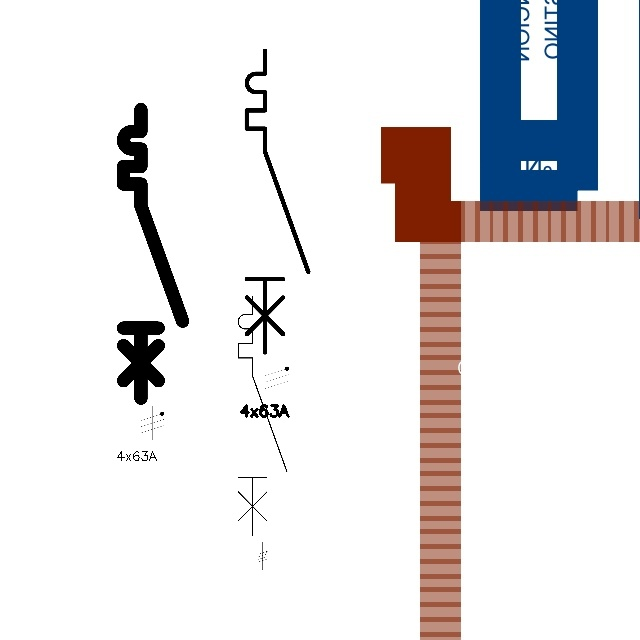interruptor_termomagnetico: (239, 43, 316, 360), (116, 102, 190, 406), (232, 290, 293, 541)
